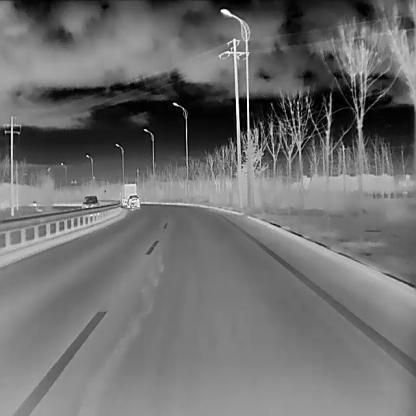car: (120, 182, 136, 206), (80, 194, 99, 210), (125, 193, 140, 208)
